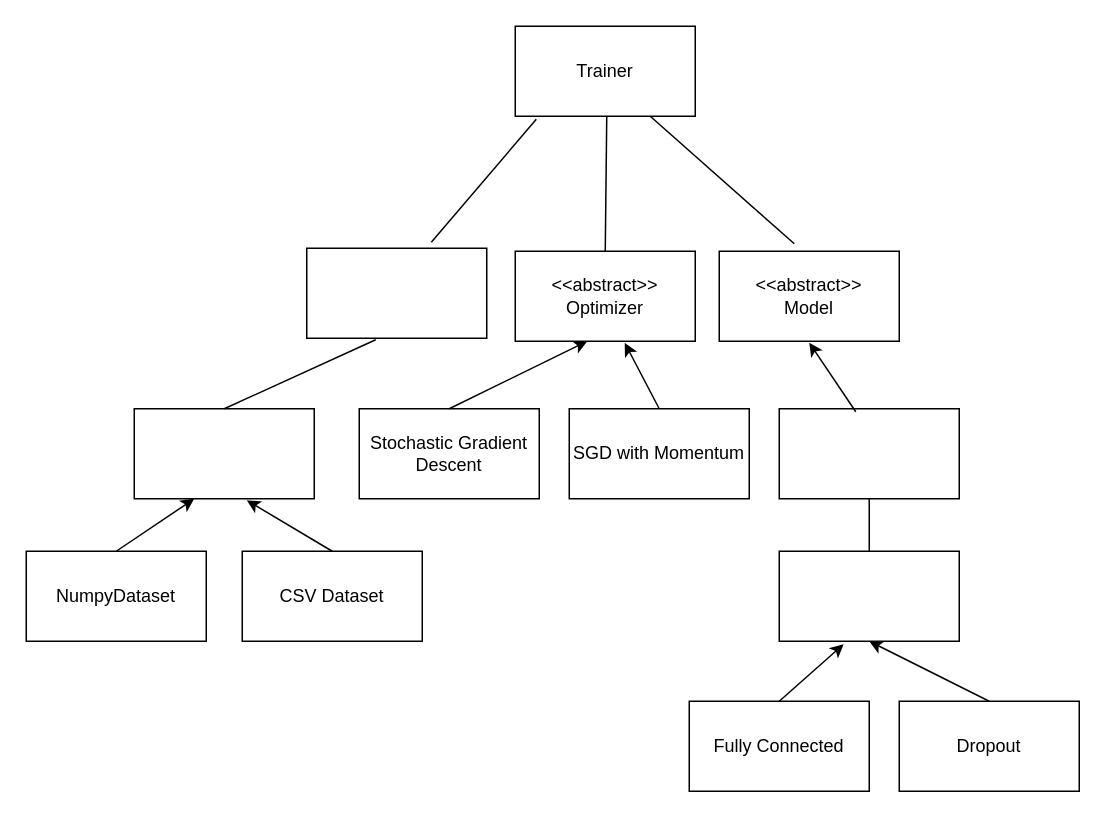
Image size: 1106x818. Some labels were removed from this diagram. The shapes that lost their labels are listed below. From the top down, each one's box as (x1, y1, x2, y2) in pixels, then its label:
(305, 247, 487, 338): Train and Test-Dataloader
(133, 407, 314, 499): <<abstract>> Dataset
(778, 407, 959, 499): Sequential
(778, 550, 959, 641): <<abstract>> Layer
